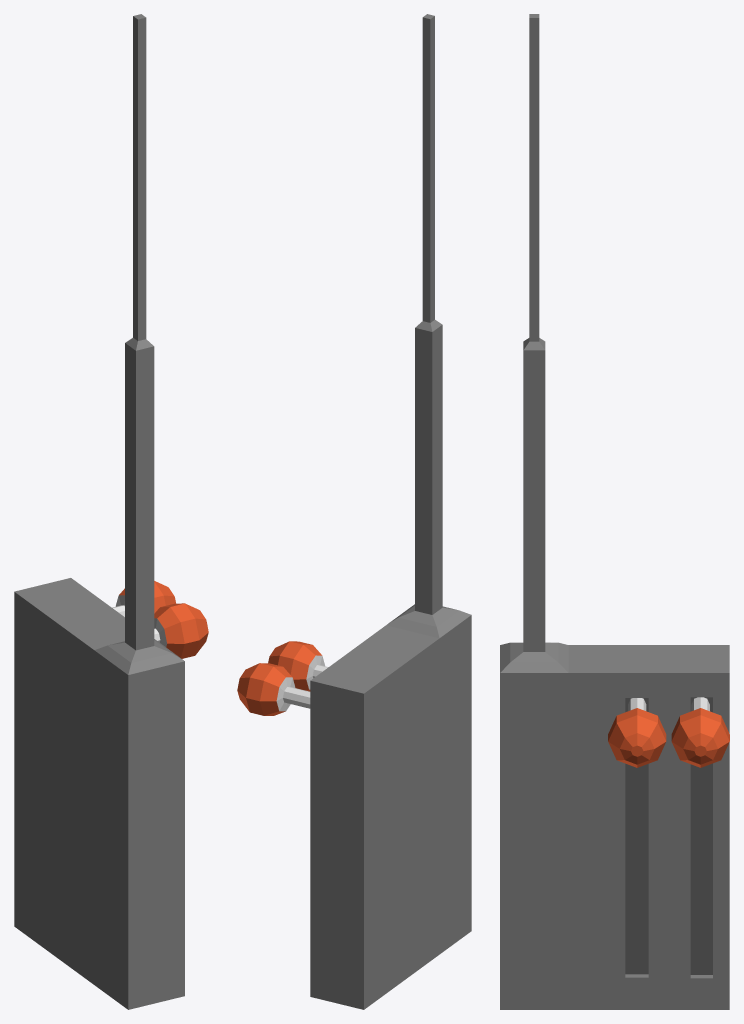
The model's file is RemoteSettings.fbx.
3 views of the same model, side by side, from view 1: azimuth 30°, elevation 25°; view 2: azimuth 150°, elevation 25°; view 3: azimuth 270°, elevation 25° (orthographic). The views are drawn at different scales.
Visible parts, largest first — view 1: Cube, Cylinder, Cylinder.001; view 2: Cube, Cylinder.001, Cylinder; view 3: Cube, Cylinder.001, Cylinder.
Boxes of the visible parts, x1,y1,x2,y2 form: Cube: [14, 14, 184, 1009]; Cylinder: [154, 603, 208, 658]; Cylinder.001: [112, 581, 175, 616]; Cube: [310, 14, 471, 1009]; Cylinder.001: [237, 663, 310, 715]; Cylinder: [268, 641, 328, 691]; Cube: [500, 14, 729, 1009]; Cylinder.001: [671, 697, 729, 767]; Cylinder: [608, 698, 666, 767].
Size of the model in its own units: 529 by 3407 by 724.
